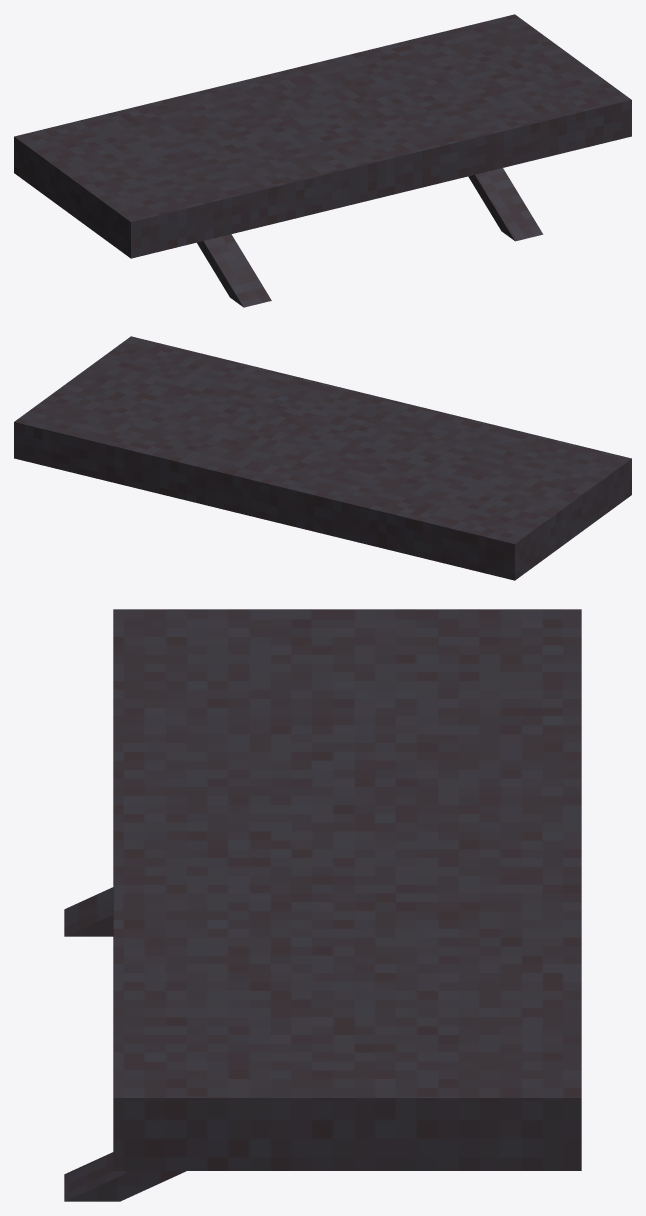
File: Shelf 1.fbx
The picture shows the model from 3 angles, top to bottom: view 1: azimuth 30°, elevation 25°; view 2: azimuth 150°, elevation 25°; view 3: azimuth 270°, elevation 25°; orthographic projection. The views are drawn at different scales.
Visible parts, largest first — view 1: Shelf; view 2: Shelf; view 3: Shelf.
Boxes of the visible parts, <box> form: Shelf: <box>14,14,631,307</box>; Shelf: <box>14,336,631,580</box>; Shelf: <box>64,609,581,1201</box>.
Bounding box in the file's own units: 88.78 × 17.11 × 39.69.
Materials: 1 (1 with a texture image).
